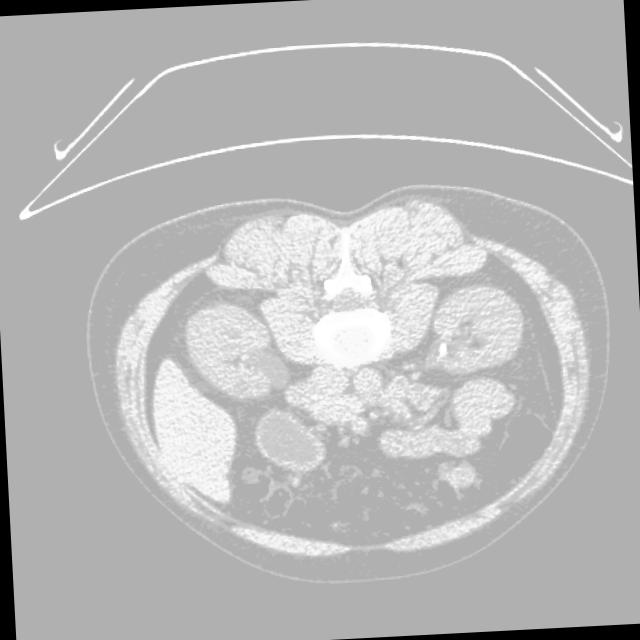STONE: (200, 367, 530, 522)
